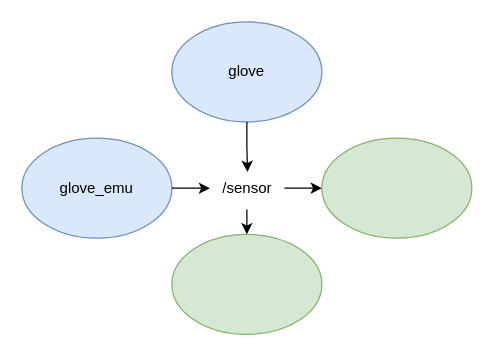
Image size: 494x356. Some labels were removed from this diagram. Each missing label, with the centre of its shape:
"data_saver" goes at point (396, 187).
"real_time_classifier" goes at point (246, 283).
